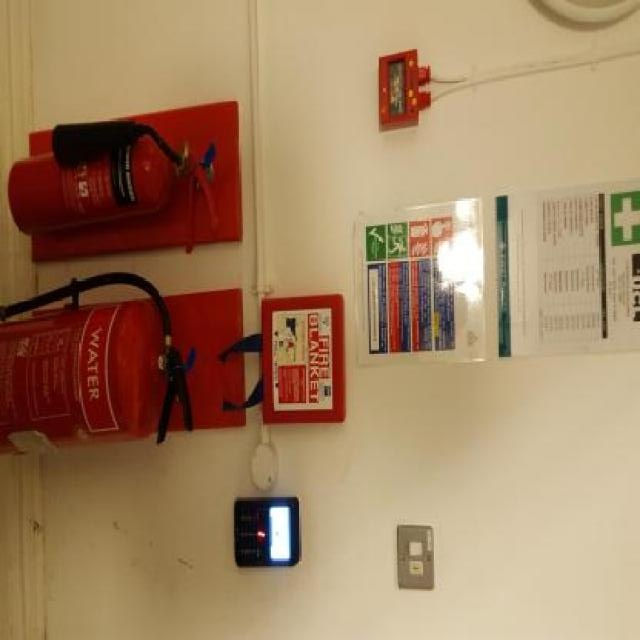fire extinguisher: (0, 274, 194, 455), (7, 119, 218, 255)
